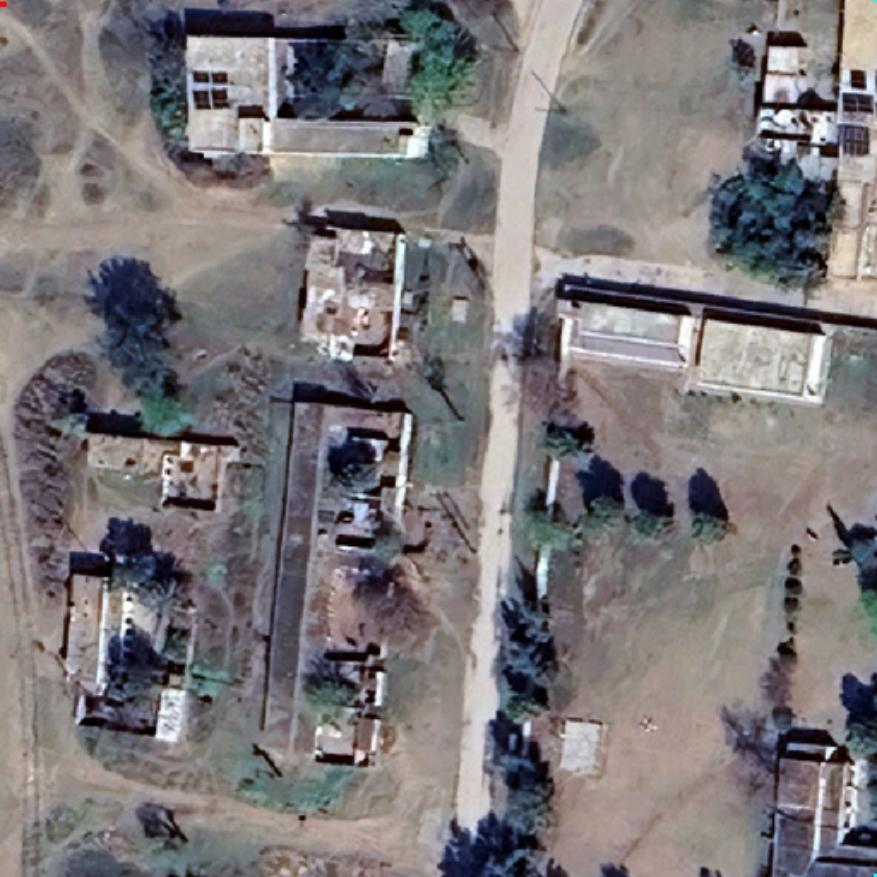Solarpanel: (186, 64, 236, 114), (837, 65, 877, 117), (836, 120, 874, 159)
